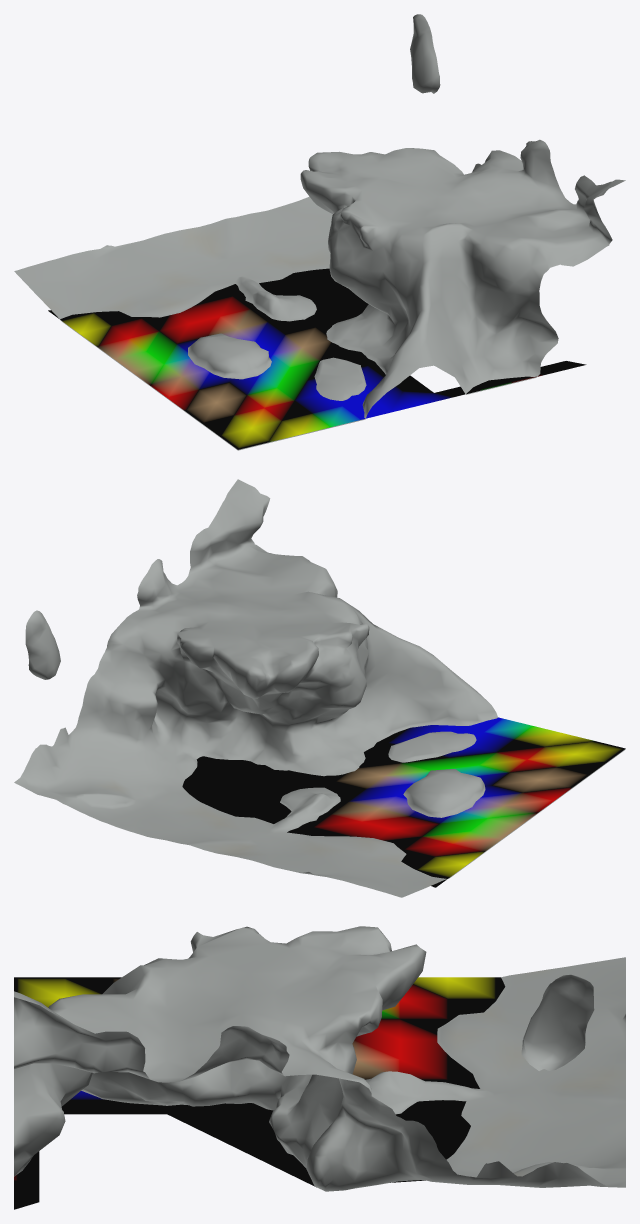
3 views of the same model, one above another, from view 1: azimuth 30°, elevation 25°; view 2: azimuth 150°, elevation 25°; view 3: azimuth 270°, elevation 25° (orthographic). The views are drawn at different scales.
Visible parts, largest first — view 1: G:\FFXIV-MapTools\exports\l1f1\bg\ffxiv\lak_l1\fld\l1f1\bgpl (×13); view 2: G:\FFXIV-MapTools\exports\l1f1\bg\ffxiv\lak_l1\fld\l1f1\bgpl (×14); view 3: G:\FFXIV-MapTools\exports\l1f1\bg\ffxiv\lak_l1\fld\l1f1\bgpl (×15).
Part boxes in pixels (<box>): G:\FFXIV-MapTools\exports\l1f1\bg\ffxiv\lak_l1\fld\l1f1\bgpl (×13): <box>14,14,625,450</box>; G:\FFXIV-MapTools\exports\l1f1\bg\ffxiv\lak_l1\fld\l1f1\bgpl (×14): <box>14,479,625,897</box>; G:\FFXIV-MapTools\exports\l1f1\bg\ffxiv\lak_l1\fld\l1f1\bgpl (×15): <box>14,926,625,1209</box>.
Size of the model in its own units: 128 by 60.8 by 128.
